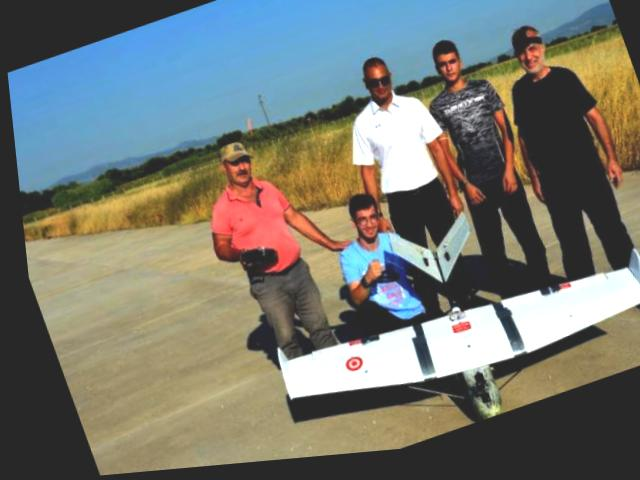iha: (226, 160, 640, 465)
